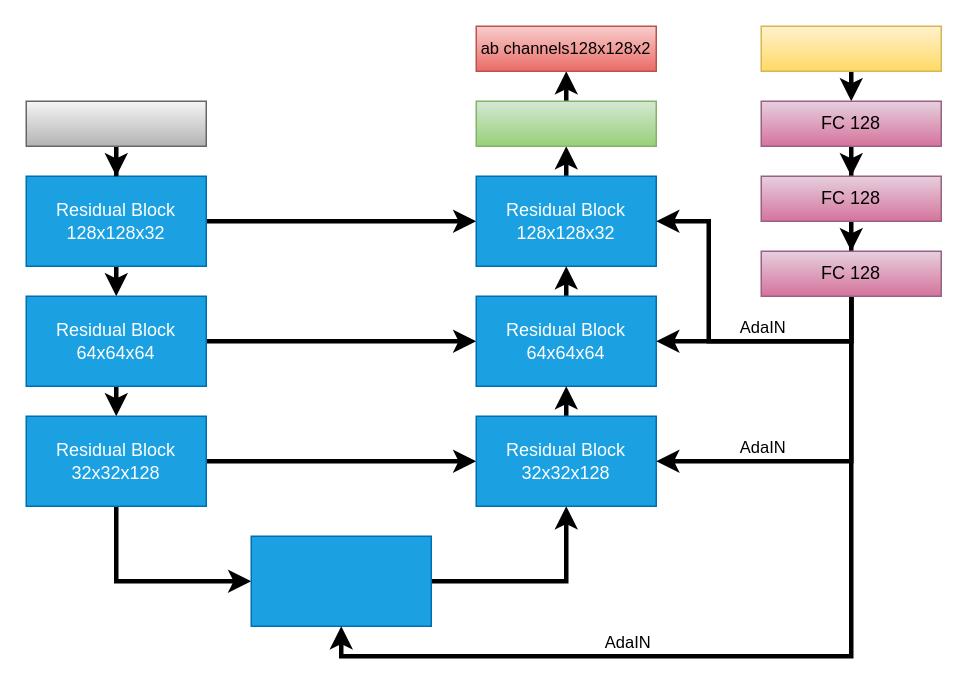
The diagram is 968 pixels wide and 696 high, and some of its shapes have lost their labels. Each missing label, with the box of its shape:
Conv 2 channels: (475, 100, 656, 146)
Gray Image 128x128: (25, 100, 206, 146)
Residual Block 16x16x128: (250, 535, 431, 626)
RGB vector 3x1: (760, 25, 941, 71)
